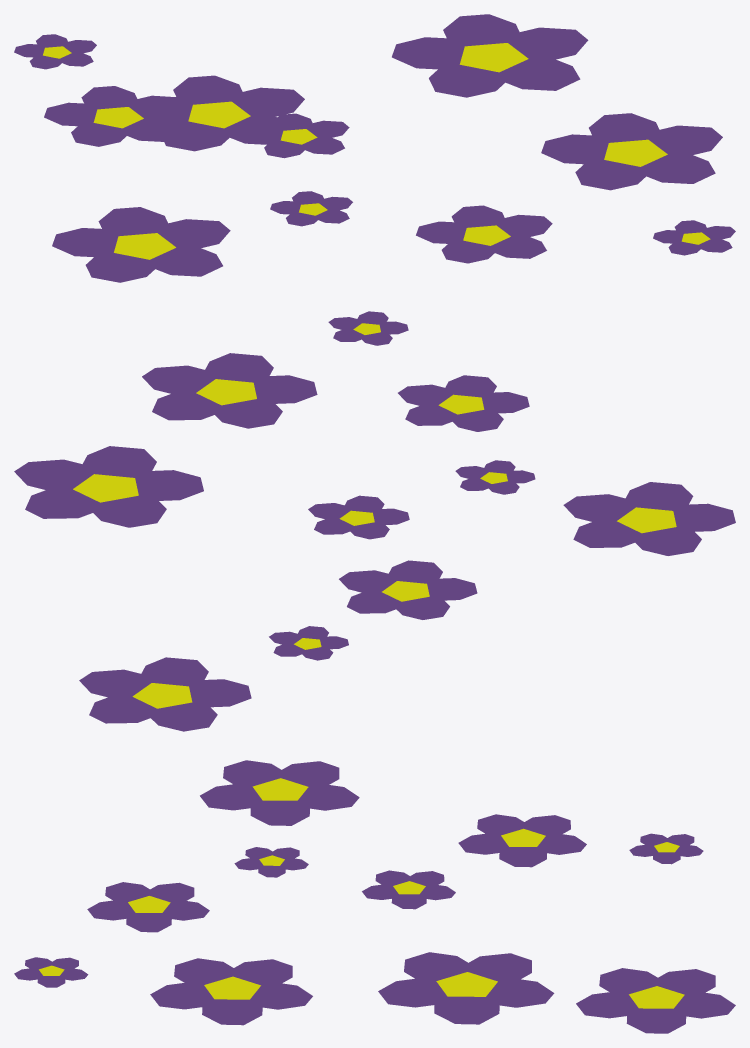
File: PurpleGroundFlowers.fbx
The picture shows the model from 3 angles, top to bottom: view 1: azimuth 30°, elevation 25°; view 2: azimuth 150°, elevation 25°; view 3: azimuth 270°, elevation 25°; orthographic projection. The views are drawn at different scales.
Parts seen in each view (by area): view 1: PurpleGroundFlowers; view 2: PurpleGroundFlowers; view 3: PurpleGroundFlowers.
Boxes of the visible parts, bbox=[...] form: PurpleGroundFlowers: bbox=[14, 14, 735, 282]; PurpleGroundFlowers: bbox=[14, 311, 735, 731]; PurpleGroundFlowers: bbox=[14, 760, 735, 1033].
Bounding box in the file's own units: 3.26 × 0.4819 × 3.75.
